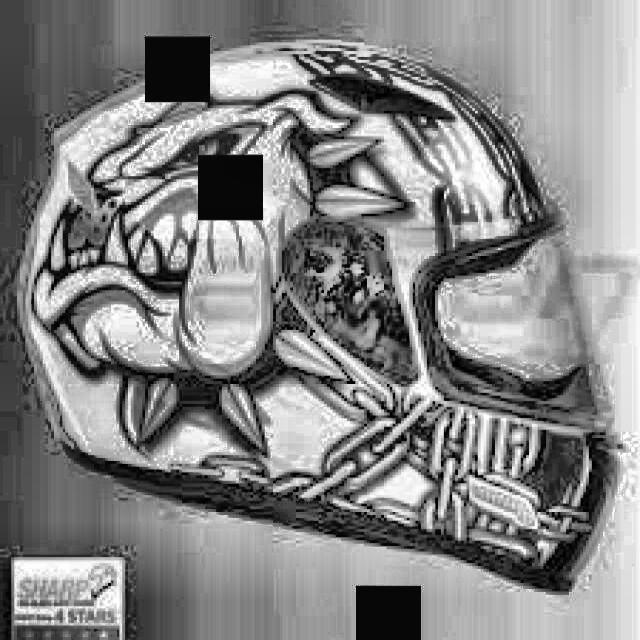Helmet: (17, 40, 624, 596)
